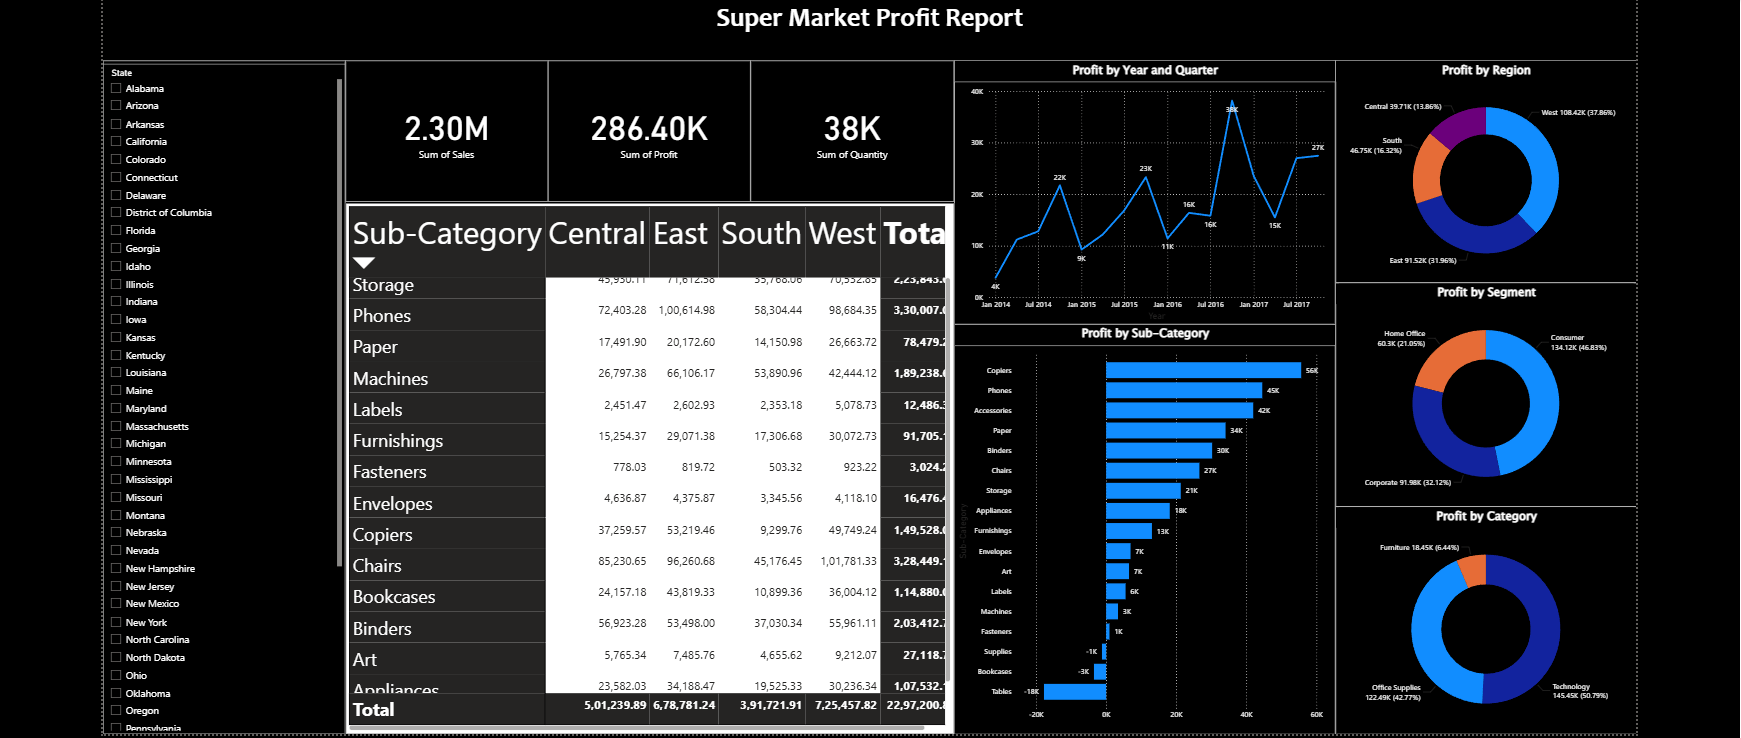

This screenshot's page, from the dashboard's own definition file:
{"tool":"powerbi","page":{"name":"executive summary","canvas":[2500,1200],"ordinal":0},"visuals":[{"type":"textbox","box":[0,0,2500.7,101.9],"z":0},{"type":"donutChart","title":"Profit by Category","fields":{"Category":["Superstore_Cleaned (3).Category"],"Y":["Sum(Superstore_Cleaned (3).Profit)"]},"box":[2009.5,829.5,491.2,370.9],"z":1000},{"type":"donutChart","title":"Profit by Segment","fields":{"Y":["Sum(Superstore_Cleaned (3).Profit)"],"Category":["Superstore_Cleaned (3).Segment"]},"box":[2009.5,464.7,491.2,364.8],"z":2000},{"type":"donutChart","title":"Profit by Region","fields":{"Y":["Sum(Superstore_Cleaned (3).Profit)"],"Category":["Superstore_Cleaned (3).Region"]},"box":[2009.5,101.9,491.2,362.8],"z":3000},{"type":"barChart","title":" Profit by Sub-Category","fields":{"Category":["Superstore_Cleaned (3).Sub-Category"],"Y":["Sum(Superstore_Cleaned (3).Profit)"]},"box":[1387.9,531.9,621.6,668.5],"z":4000},{"type":"lineChart","title":"Profit by Year and Quarter","fields":{"Category":["Superstore_Cleaned (3).Order Date.Variation.Date Hierarchy.Year","Superstore_Cleaned (3).Order Date.Variation.Date Hierarchy.Quarter","Superstore_Cleaned (3).Order Date.Variation.Date Hierarchy.Month","Superstore_Cleaned (3).Order Date.Variation.Date Hierarchy.Day"],"Y":["Sum(Superstore_Cleaned (3).Profit)"]},"box":[1387.9,101.9,621.6,430],"z":5000},{"type":"slicer","fields":{"Values":["Superstore_Cleaned (3).State"]},"box":[0,101.9,395.4,1098.5],"z":6000},{"type":"card","fields":{"Values":["Sum(Superstore_Cleaned (3).Sales)"]},"box":[395.4,101.9,330.2,230.3],"z":7000},{"type":"card","fields":{"Values":["Sum(Superstore_Cleaned (3).Profit)"]},"box":[725.5,101.9,330.2,230.3],"z":8000},{"type":"card","fields":{"Values":["Sum(Superstore_Cleaned (3).Quantity)"]},"box":[1055.7,101.9,332.2,230.3],"z":9000},{"type":"pivotTable","fields":{"Rows":["Superstore_Cleaned (3).Sub-Category"],"Columns":["Superstore_Cleaned (3).Region"],"Values":["Sum(Superstore_Cleaned (3).Sales)"]},"box":[395.4,334.2,992.5,866.2],"z":10000}]}

Visuals, with their boxes in screenshot pixels (x1, y1, x2, y2):
textbox: crop(104, 0, 1623, 57)
"Profit by Category" donutChart: crop(1325, 499, 1623, 725)
"Profit by Segment" donutChart: crop(1325, 278, 1623, 499)
"Profit by Region" donutChart: crop(1325, 57, 1623, 278)
" Profit by Sub-Category" barChart: crop(947, 319, 1325, 725)
"Profit by Year and Quarter" lineChart: crop(947, 57, 1325, 319)
slicer - Superstore_Cleaned (3).State: crop(104, 57, 344, 725)
card - Sum(Superstore_Cleaned (3).Sales): crop(344, 57, 545, 197)
card - Sum(Superstore_Cleaned (3).Profit): crop(545, 57, 745, 197)
card - Sum(Superstore_Cleaned (3).Quantity): crop(745, 57, 947, 197)
pivotTable - Superstore_Cleaned (3).Sub-Category x Superstore_Cleaned (3).Region: crop(344, 198, 947, 725)
